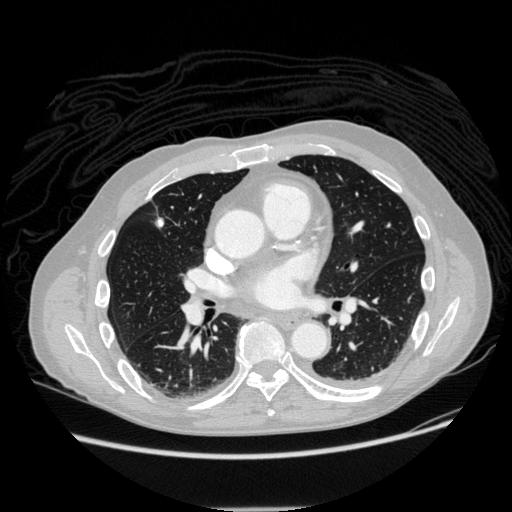nodule: (153, 216, 167, 230)
